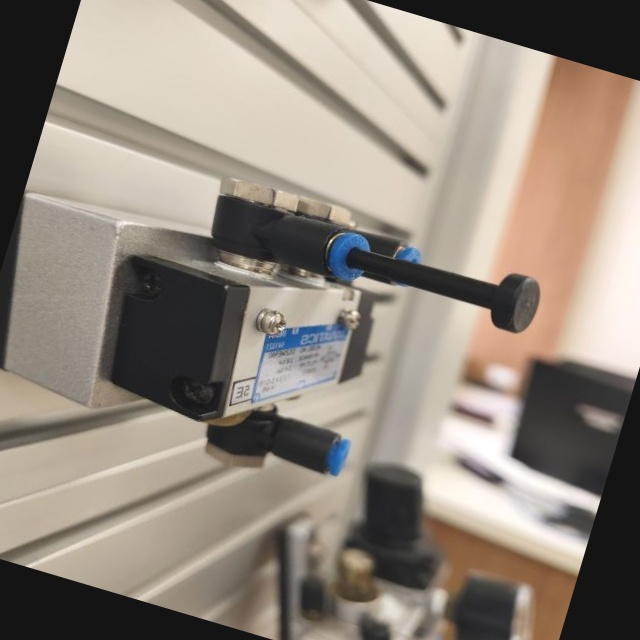5by2 DCV: (0, 103, 565, 550)
